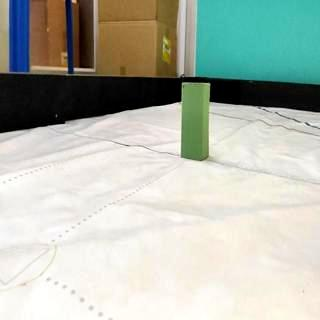greenbox: (181, 81, 211, 163)
